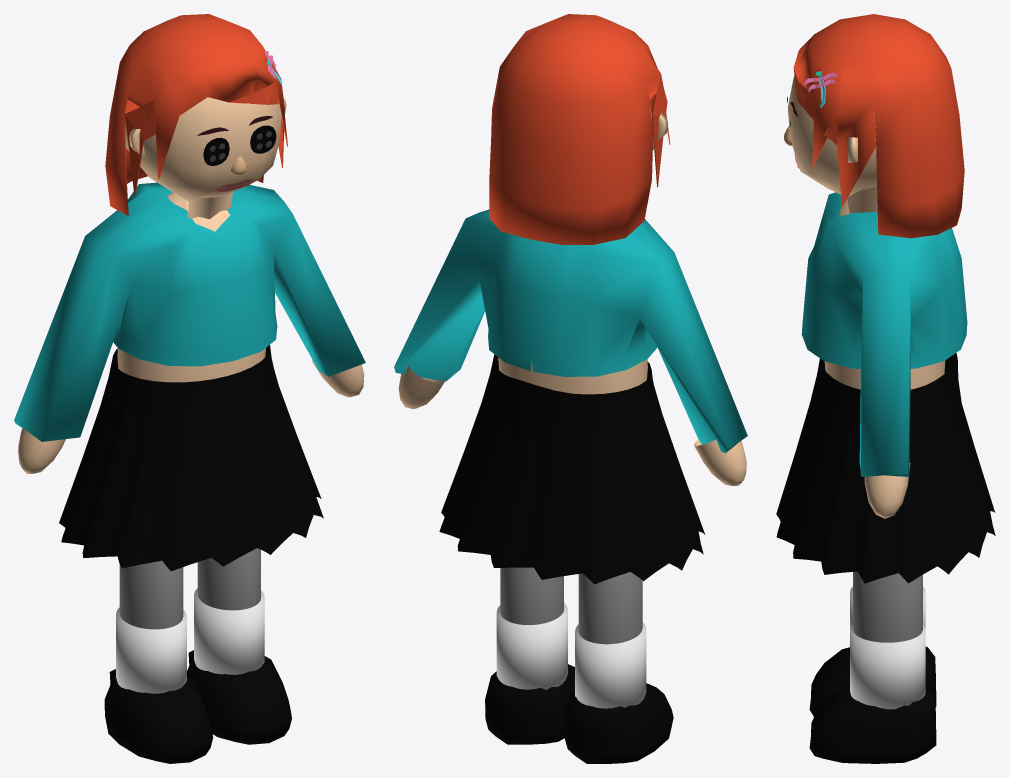
The model's file is Coraline.glb.
3 views of the same model, side by side, from view 1: azimuth 30°, elevation 25°; view 2: azimuth 150°, elevation 25°; view 3: azimuth 270°, elevation 25° (orthographic).
Parts seen in each view (by area): view 1: top, Cylinder.004, hair, head, Cube, Cube.001, Cylinder.003, Cylinder.002, Cylinder, Cylinder.001, body, Cube.011 (+3 smaller); view 2: Cylinder.004, top, hair, Cube, Cylinder.003, Cylinder.002, Cube.001, Cylinder, Cylinder.001, body, Cube.011, Cube.002; view 3: Cylinder.004, top, hair, Cube.001, Cylinder.003, Cylinder.001, head, Cube, Cube.002, body.
Boxes of the visible parts, <box> form: top: <box>14,182,365,441</box>; Cylinder.004: <box>59,345,323,571</box>; hair: <box>105,14,287,215</box>; head: <box>125,97,281,219</box>; Cube: <box>104,669,213,763</box>; Cube.001: <box>187,650,291,744</box>; Cylinder.003: <box>194,588,264,674</box>; Cylinder.002: <box>116,607,186,693</box>; Cylinder: <box>119,560,183,629</box>; Cylinder.001: <box>197,548,260,610</box>; body: <box>117,192,265,382</box>; Cube.011: <box>18,428,65,474</box>; Cylinder.004: <box>439,354,705,584</box>; top: <box>394,209,747,453</box>; hair: <box>489,14,670,244</box>; Cube: <box>564,683,673,763</box>; Cylinder.003: <box>496,603,567,689</box>; Cylinder.002: <box>575,622,646,708</box>; Cube.001: <box>485,664,574,744</box>; Cylinder: <box>578,572,642,644</box>; Cylinder.001: <box>500,567,563,624</box>; body: <box>498,357,647,394</box>; Cube.011: <box>694,439,746,485</box>; Cube.002: <box>398,365,446,409</box>; Cylinder.004: <box>776,353,995,583</box>; top: <box>801,192,967,476</box>; hair: <box>793,14,964,238</box>; Cube.001: <box>809,685,936,763</box>; Cylinder.003: <box>850,625,925,709</box>; Cylinder.001: <box>853,571,922,642</box>; head: <box>787,76,877,213</box>; Cube: <box>809,646,936,716</box>; Cube.002: <box>864,463,910,518</box>; body: <box>824,199,945,389</box>.
Size of the model in its own units: 0.0397 by 0.0787 by 0.0221.
